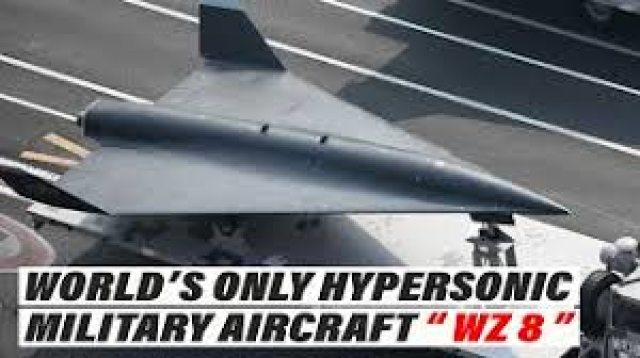military drone: (0, 3, 573, 216)
